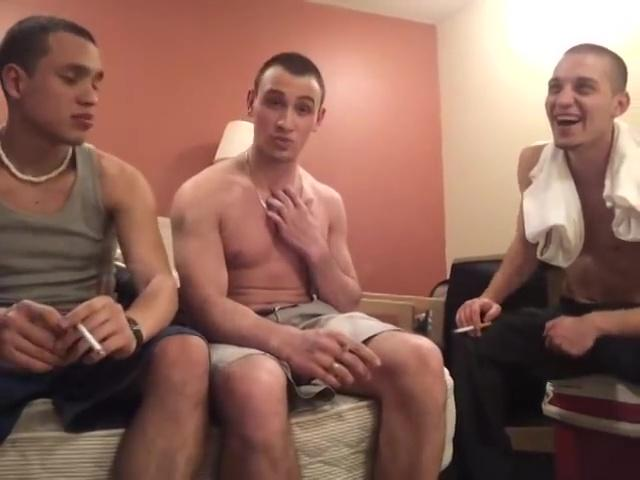cigarette: (73, 320, 110, 358), (454, 320, 494, 336)
